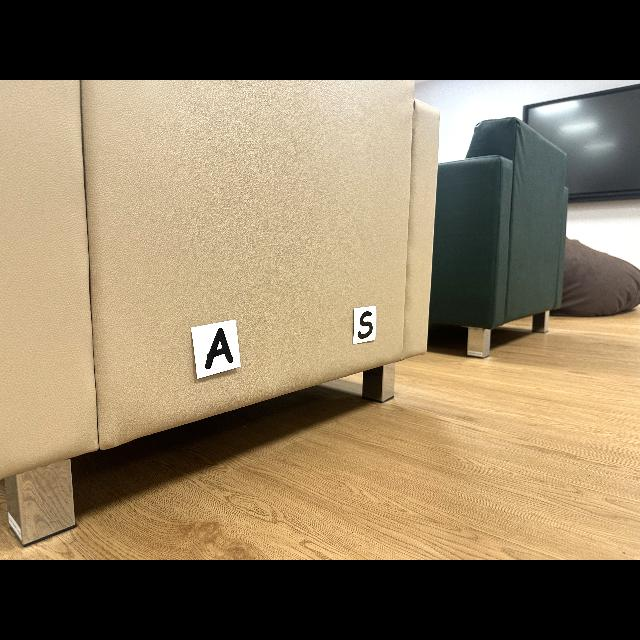A: (205, 328, 234, 369)
S: (358, 311, 372, 339)
